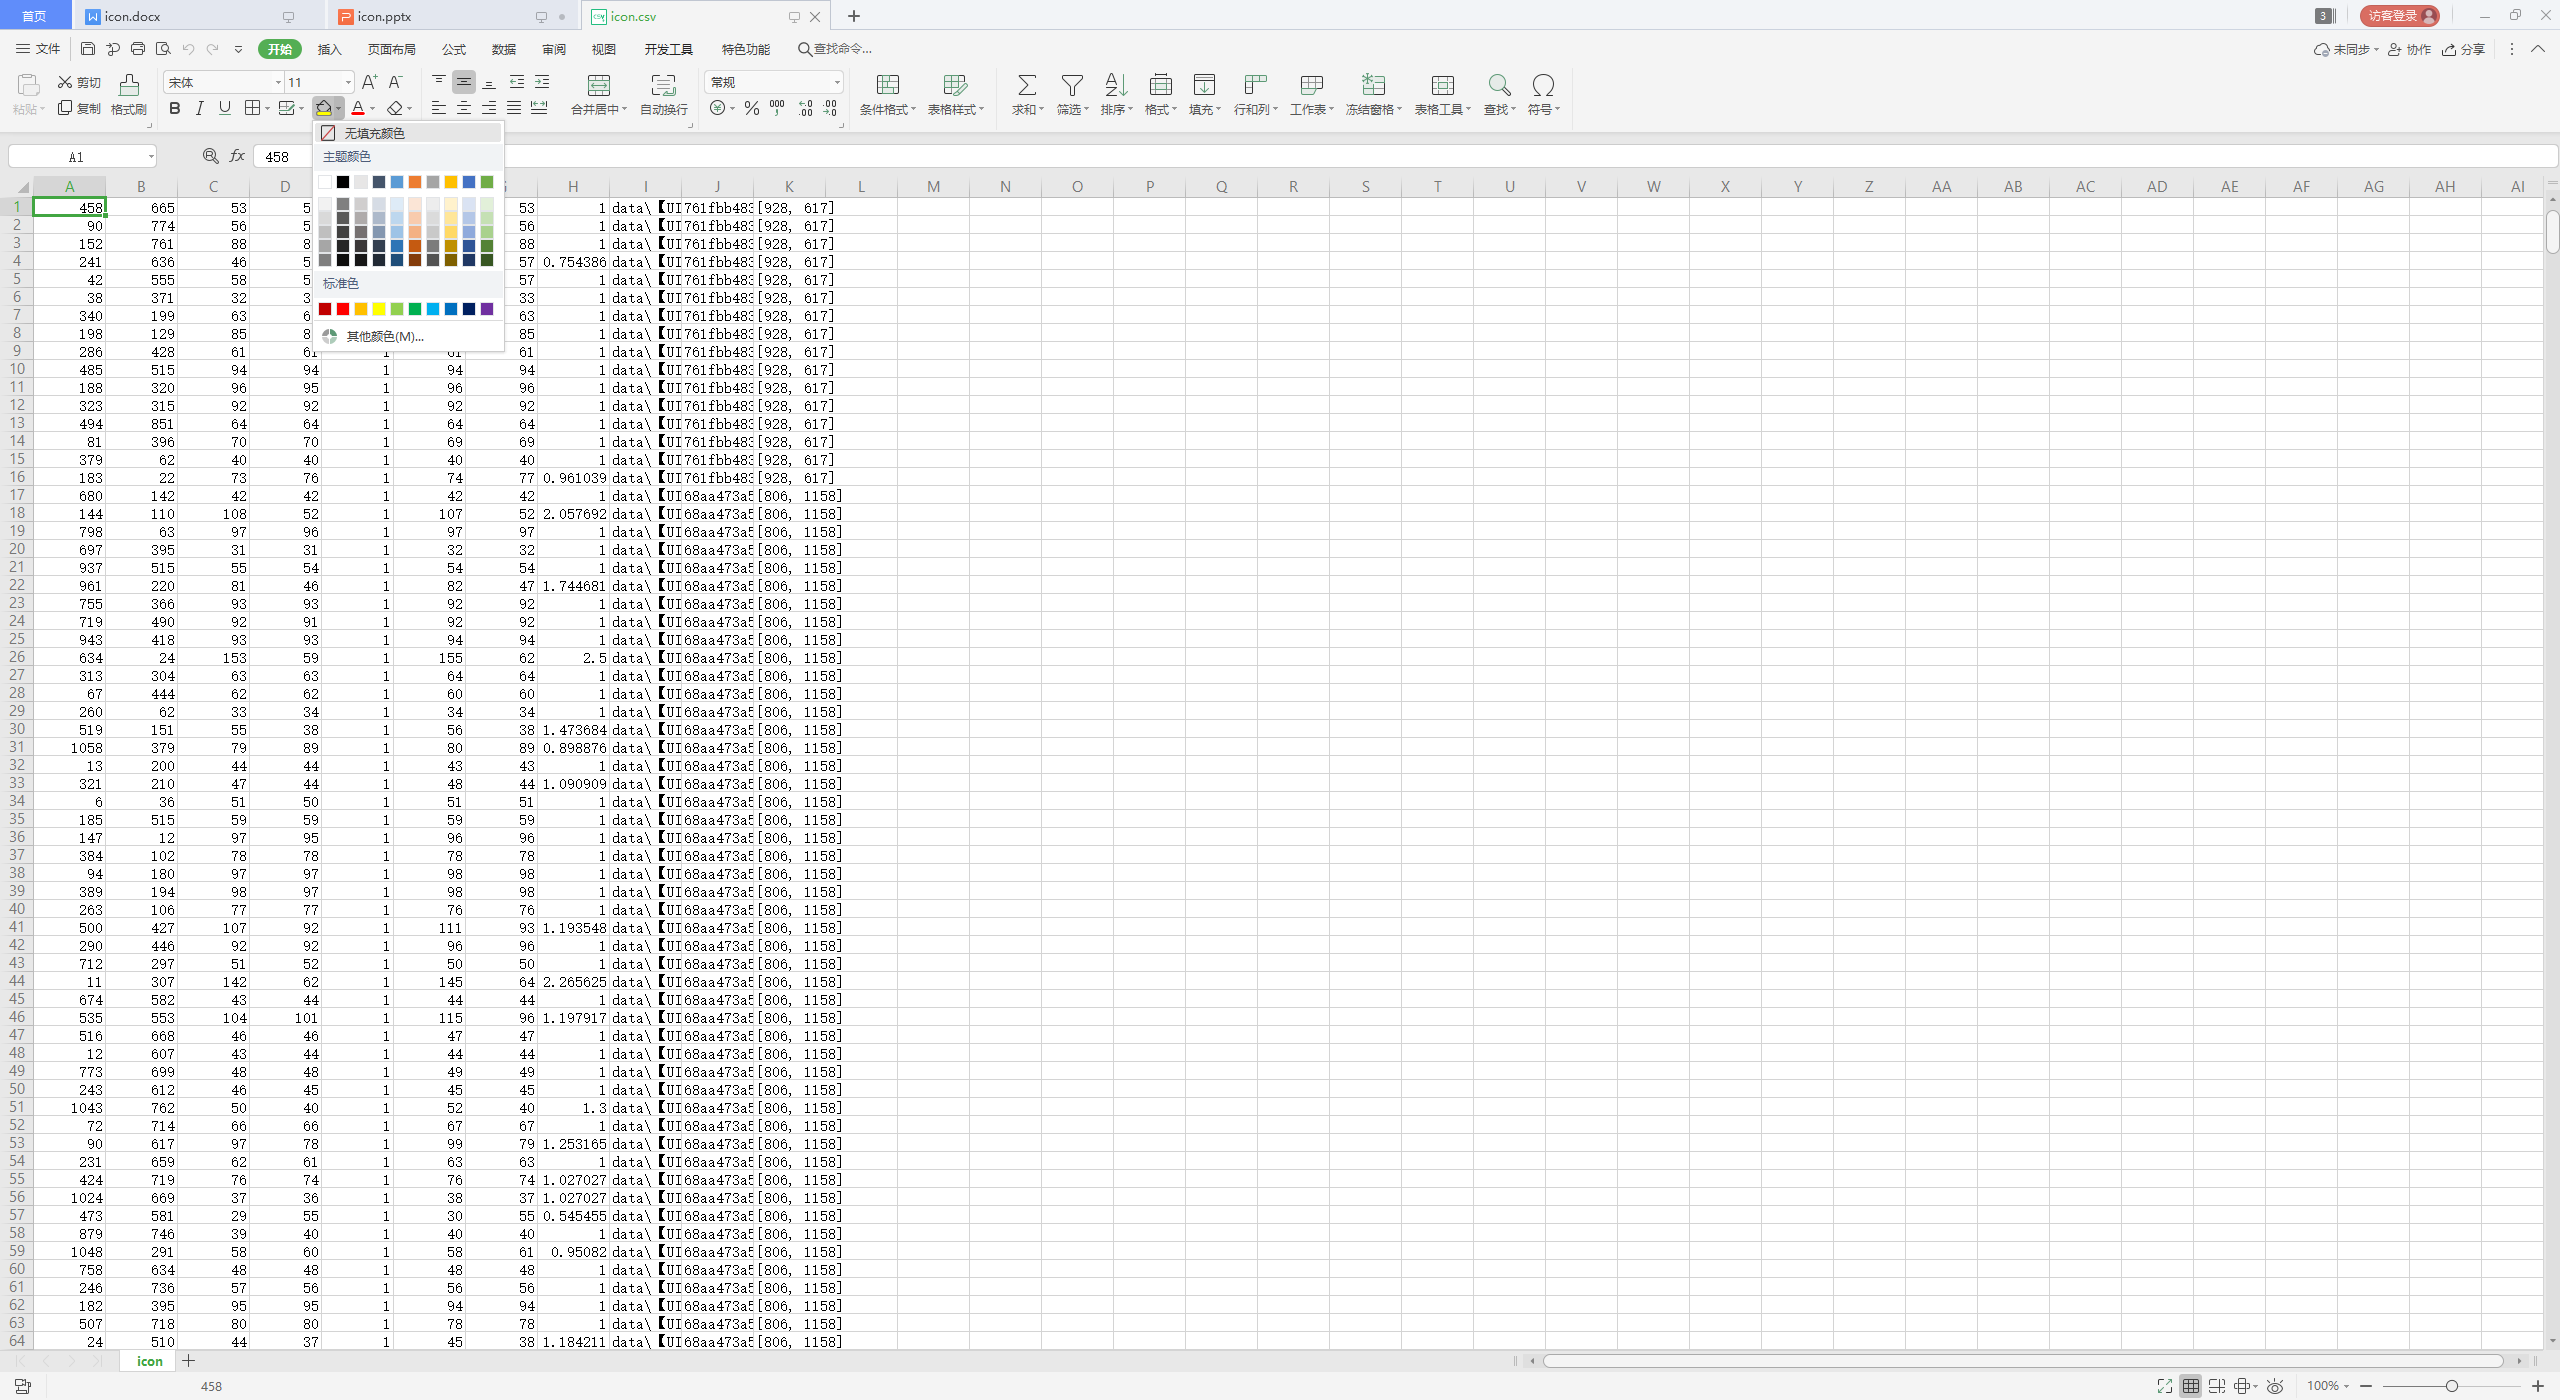character: (345, 329, 428, 345), (103, 9, 165, 24), (345, 126, 410, 138), (367, 41, 417, 57), (645, 41, 693, 57), (322, 148, 371, 164), (721, 41, 772, 55), (638, 103, 690, 117), (2370, 9, 2415, 24), (357, 10, 414, 22), (610, 9, 659, 22), (319, 276, 367, 290), (133, 1352, 167, 1371), (814, 41, 860, 55), (571, 103, 617, 117), (857, 103, 907, 116), (926, 103, 976, 116), (436, 41, 471, 59), (488, 41, 522, 59), (538, 40, 572, 57), (165, 76, 203, 91), (310, 41, 348, 57), (284, 72, 322, 88), (1341, 103, 1389, 116), (1415, 103, 1464, 116), (19, 9, 52, 26), (584, 40, 621, 55), (110, 102, 148, 116), (260, 41, 298, 55), (1229, 103, 1269, 116), (264, 147, 291, 164), (1289, 103, 1327, 116), (2307, 1376, 2336, 1391), (2336, 45, 2370, 57), (709, 76, 738, 90), (1003, 102, 1033, 116), (1050, 102, 1079, 116), (1096, 102, 1126, 116), (9, 102, 34, 117), (76, 76, 102, 91), (195, 1379, 228, 1391), (66, 148, 90, 164), (36, 41, 62, 55), (76, 102, 102, 116), (2462, 41, 2484, 57), (1145, 103, 1169, 117), (1524, 103, 1552, 116), (1481, 103, 1507, 116), (1188, 103, 1210, 117), (2408, 41, 2431, 53)
icon: (1145, 69, 1176, 98), (450, 67, 478, 95), (1189, 71, 1219, 97), (1527, 72, 1557, 98), (1486, 72, 1514, 98), (1239, 72, 1269, 97), (1360, 71, 1386, 97), (941, 72, 969, 97), (1102, 72, 1129, 97), (586, 72, 612, 97), (650, 72, 676, 97), (1058, 72, 1084, 97), (1431, 72, 1457, 97), (2177, 1372, 2203, 1397), (17, 72, 41, 97), (116, 72, 140, 97), (1017, 72, 1041, 97), (1300, 72, 1324, 97), (876, 72, 900, 95), (2205, 1374, 2227, 1397), (505, 71, 528, 91), (428, 95, 448, 117), (2231, 1374, 2251, 1397), (2313, 5, 2338, 24), (312, 97, 333, 117), (528, 97, 548, 117), (478, 97, 498, 117), (531, 71, 552, 91), (453, 97, 474, 117), (2419, 5, 2439, 26), (2155, 1374, 2176, 1395), (2263, 1374, 2284, 1395), (503, 95, 522, 116), (590, 7, 609, 26), (479, 76, 498, 95), (429, 69, 448, 88), (14, 1376, 33, 1395), (226, 147, 247, 164), (2503, 38, 2520, 59), (384, 98, 403, 116), (202, 147, 219, 166), (360, 72, 378, 91), (796, 40, 814, 59), (55, 72, 72, 90), (55, 98, 72, 116), (103, 40, 121, 57), (321, 328, 338, 345), (243, 98, 260, 116), (165, 98, 183, 116), (386, 72, 403, 90), (278, 98, 295, 116), (709, 98, 726, 116), (845, 7, 862, 24), (12, 1352, 29, 1369), (88, 1352, 105, 1369), (153, 40, 171, 55), (79, 40, 97, 55), (84, 9, 102, 24), (319, 124, 334, 141), (336, 9, 353, 24), (14, 40, 31, 55), (348, 98, 365, 114), (317, 172, 333, 190), (217, 98, 233, 116), (279, 9, 297, 24), (193, 98, 209, 116), (786, 9, 803, 24), (2313, 41, 2331, 57), (2439, 41, 2457, 57), (2529, 40, 2546, 55), (36, 1352, 53, 1367), (179, 1352, 197, 1367), (2529, 1378, 2546, 1393), (2443, 1378, 2460, 1393), (2512, 1353, 2527, 1371), (129, 40, 145, 55), (407, 174, 422, 190), (371, 174, 386, 190), (352, 174, 367, 190), (479, 174, 495, 190), (807, 9, 822, 24), (822, 98, 838, 114), (798, 98, 814, 114), (2388, 41, 2403, 57), (64, 1352, 79, 1367), (2358, 1376, 2374, 1391), (2544, 1333, 2560, 1348), (179, 41, 197, 55), (745, 98, 759, 116), (2507, 7, 2524, 21), (2476, 9, 2493, 22), (1522, 1353, 1539, 1367), (317, 210, 331, 228), (771, 98, 784, 116), (371, 302, 386, 316), (390, 174, 403, 190), (353, 224, 367, 240), (334, 174, 350, 188), (388, 302, 403, 316), (371, 197, 386, 210), (407, 302, 422, 316), (407, 224, 422, 238), (407, 197, 422, 210), (317, 302, 333, 316), (443, 174, 459, 188), (534, 9, 548, 24), (460, 174, 476, 188), (443, 302, 459, 316), (460, 197, 476, 210), (460, 302, 476, 316), (479, 302, 495, 316), (2538, 7, 2553, 21), (353, 302, 367, 316), (205, 41, 219, 55), (336, 302, 350, 316), (353, 197, 367, 210), (353, 253, 367, 267), (336, 197, 350, 210), (390, 224, 403, 238), (390, 253, 403, 267), (409, 253, 422, 267), (317, 253, 331, 267), (390, 197, 403, 210), (1034, 102, 1048, 116), (426, 174, 440, 188), (445, 197, 459, 210), (426, 302, 440, 316), (462, 224, 476, 238), (445, 224, 459, 238), (479, 197, 493, 210), (426, 197, 440, 210), (426, 253, 440, 267), (798, 103, 812, 117), (1508, 1353, 1522, 1367), (1079, 102, 1093, 116), (1169, 102, 1183, 116), (317, 195, 329, 210), (407, 212, 422, 224), (353, 240, 367, 252), (372, 224, 384, 238), (372, 253, 384, 267), (409, 240, 422, 252), (390, 240, 403, 252), (336, 226, 350, 238), (353, 212, 367, 224), (336, 212, 350, 224), (336, 253, 348, 267), (367, 102, 379, 116), (390, 212, 403, 224), (462, 240, 476, 252), (479, 240, 493, 252), (462, 253, 476, 266), (555, 9, 567, 22), (426, 240, 440, 252), (479, 226, 493, 238), (479, 253, 493, 266), (445, 253, 459, 266), (426, 226, 440, 238), (462, 212, 476, 224), (2546, 176, 2558, 190), (1126, 103, 1138, 117), (1214, 103, 1226, 117), (147, 147, 155, 166), (833, 74, 841, 93), (272, 74, 283, 90), (343, 76, 353, 91), (405, 100, 415, 116), (334, 102, 345, 117), (372, 240, 384, 252), (233, 43, 245, 55), (372, 212, 384, 224), (336, 240, 348, 252), (445, 240, 457, 252), (479, 212, 491, 224), (445, 212, 457, 224), (279, 178, 290, 191), (2341, 1378, 2351, 1391), (862, 45, 872, 59), (1327, 102, 1338, 116), (1508, 102, 1519, 116), (1553, 102, 1564, 116), (2251, 1379, 2262, 1393), (264, 98, 272, 114), (297, 102, 307, 114), (319, 240, 329, 252), (319, 228, 331, 238), (838, 121, 848, 133), (910, 103, 921, 116), (979, 102, 990, 114), (729, 102, 740, 114), (1396, 103, 1405, 117), (1465, 102, 1474, 116), (2374, 45, 2382, 59), (2546, 197, 2560, 205), (38, 103, 47, 116), (688, 117, 696, 129), (621, 103, 629, 116), (147, 117, 153, 131), (1272, 102, 1279, 116)
